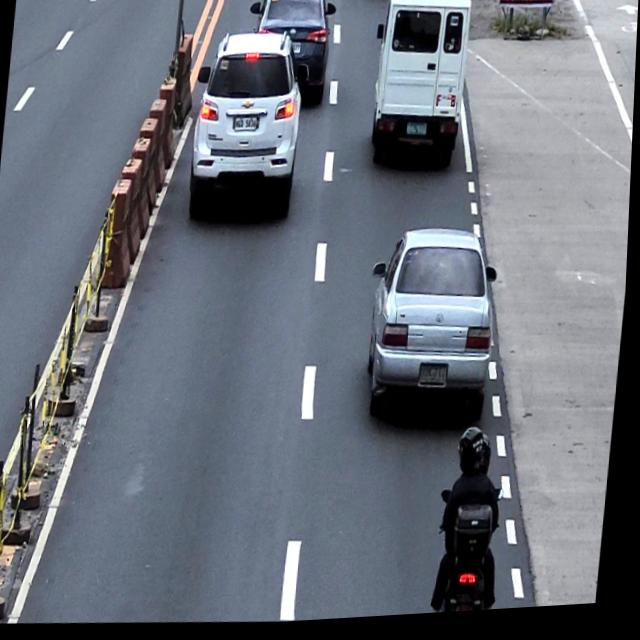Car: (362, 226, 506, 430), (186, 28, 309, 224), (365, 0, 475, 176), (242, 0, 339, 113)
License-Plate: (422, 366, 452, 393), (235, 118, 258, 136), (407, 125, 429, 142), (289, 44, 303, 59)
Motorcycle: (435, 491, 509, 619)
